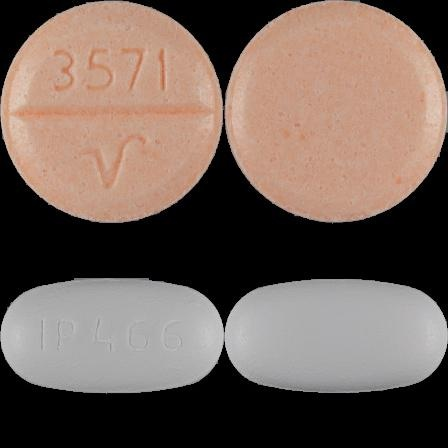43063-010: (0, 0, 224, 224)
